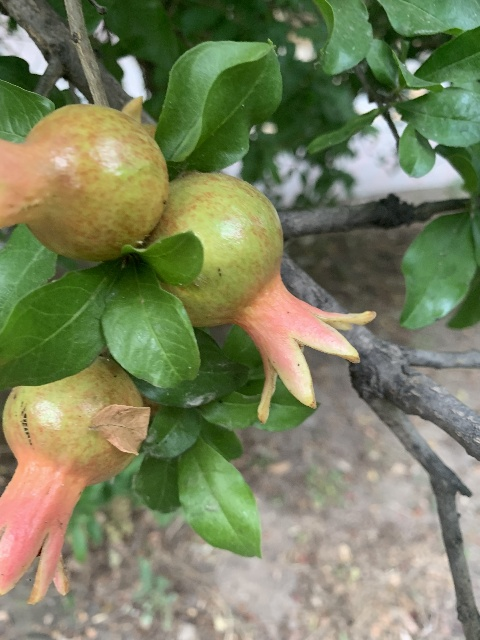early-fruit: (151, 172, 373, 423), (0, 355, 147, 606), (0, 102, 166, 266)
